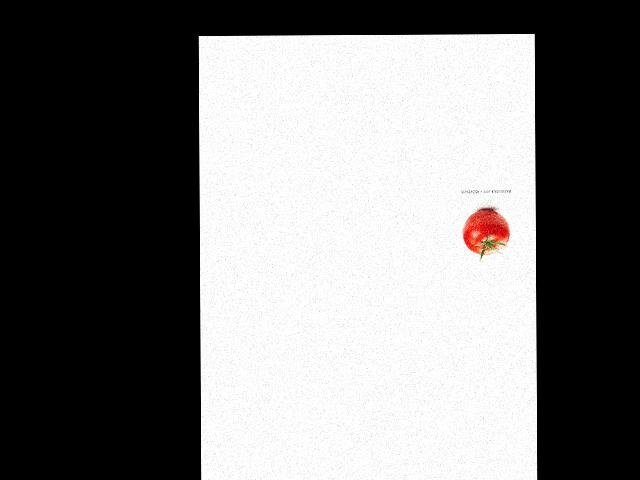tomato: (462, 209, 509, 255)
